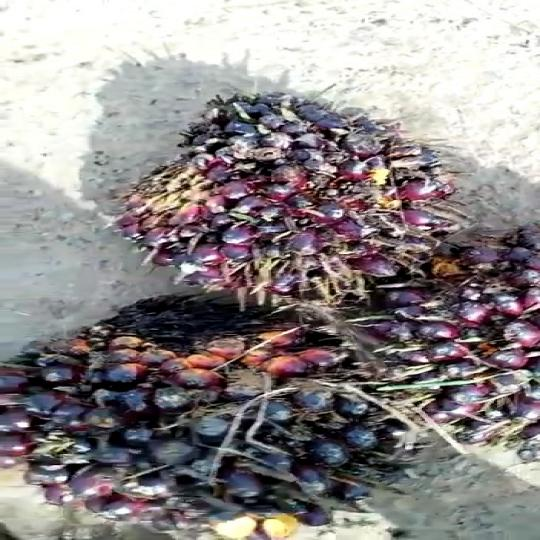kurang masak: (0, 304, 442, 523), (112, 80, 450, 305)
